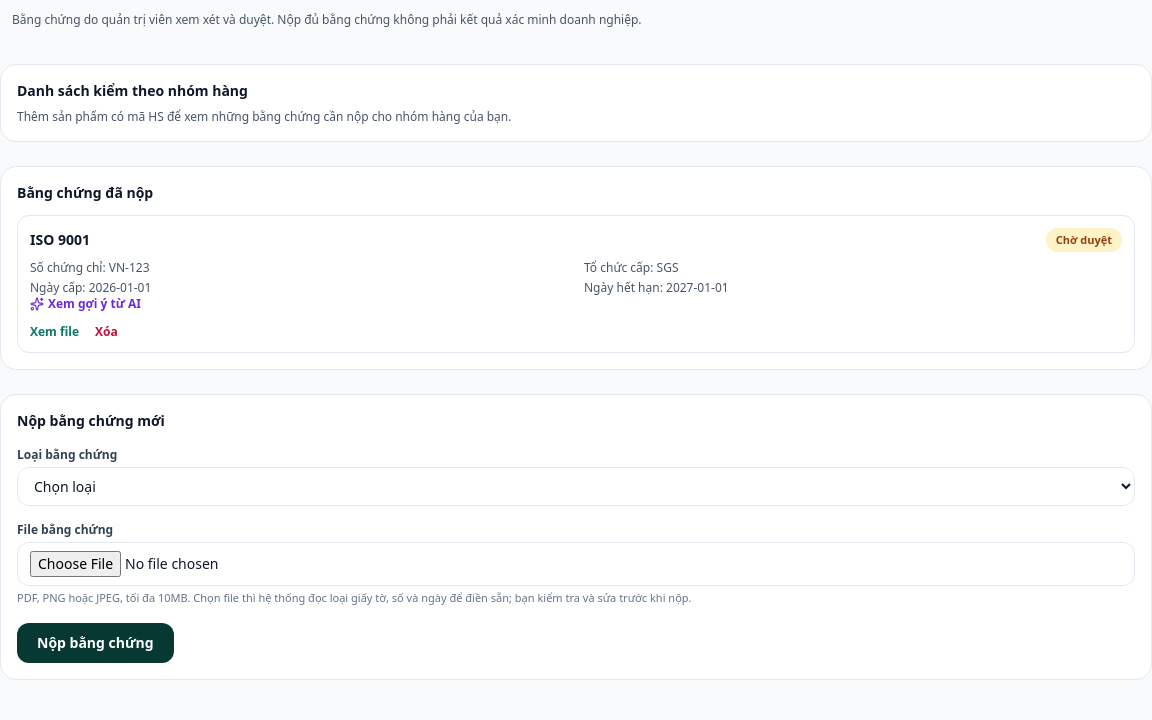
Test: EvidenceManager (C6) › xóa bằng chứng: gọi DELETE và bỏ dòng khỏi danh sách
The image size is (1152, 720).
Click the button "Xóa" at coordinates (106, 332), box [95,324,118,340]
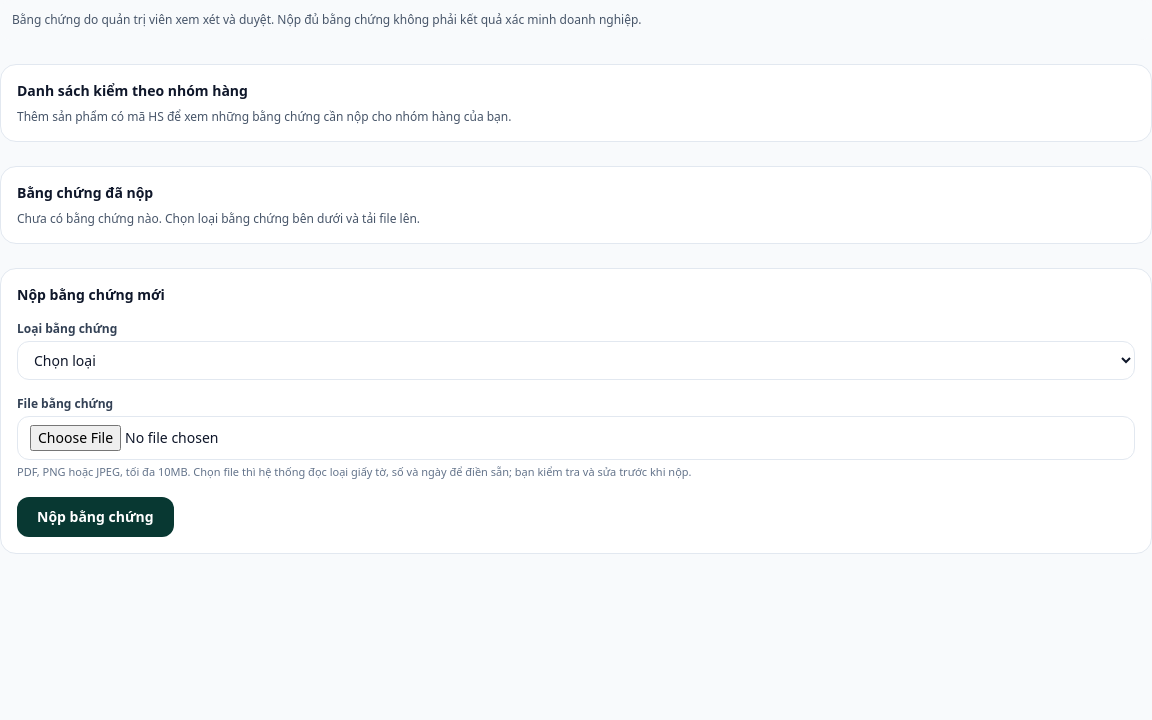
Now the text "ISO 9001" is gone
